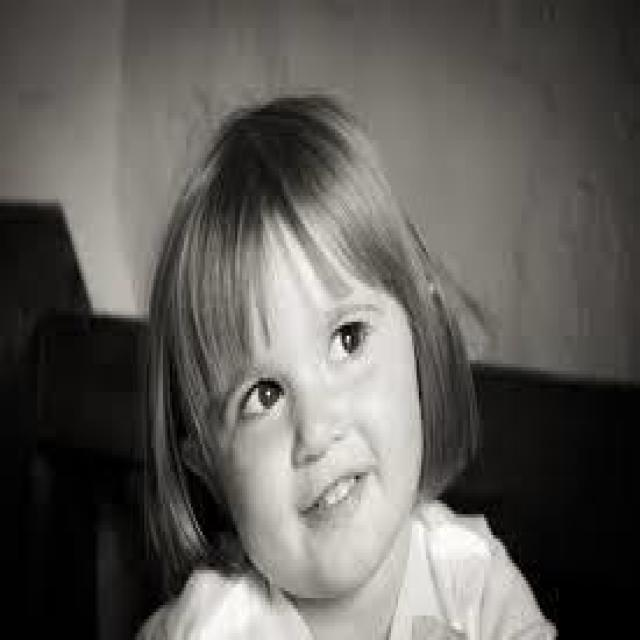person: (86, 84, 552, 622)
